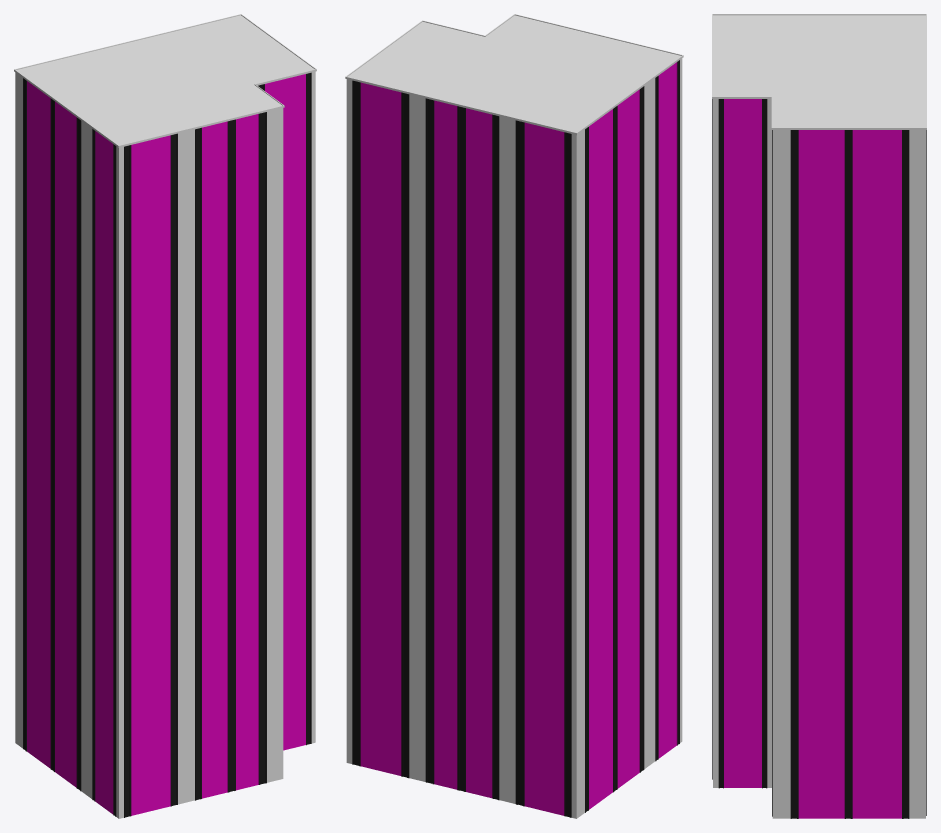
3 renders of one model, left to right at view 1: azimuth 30°, elevation 25°; view 2: azimuth 150°, elevation 25°; view 3: azimuth 270°, elevation 25°, orthographic. The views are drawn at different scales.
Parts seen in each view (by area): view 1: gb5_mesh.002; view 2: gb5_mesh.002; view 3: gb5_mesh.002.
Part boxes in pixels (x1,y1,x2,y2): gb5_mesh.002: (14,14,316,818); gb5_mesh.002: (345,14,683,818); gb5_mesh.002: (712,14,926,818).
Bounding box in the file's own units: 6179 × 17500 × 4928.
